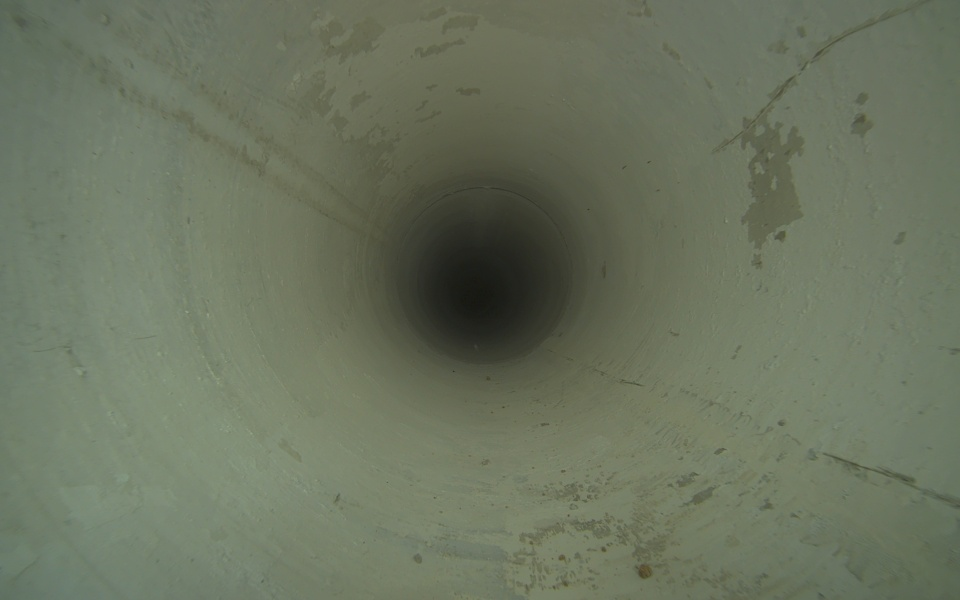circle1: (388, 184, 579, 370)
circle2: (462, 278, 495, 314)
